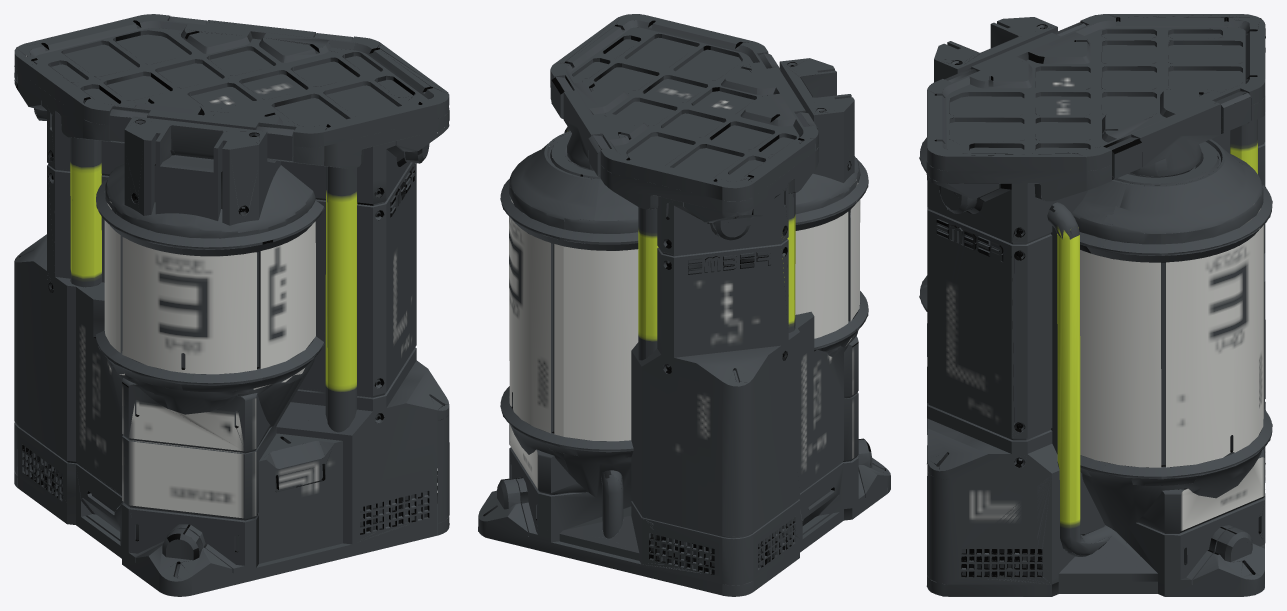
Rendered from building.glb.
3 views of the same model, side by side, from view 1: azimuth 30°, elevation 25°; view 2: azimuth 150°, elevation 25°; view 3: azimuth 270°, elevation 25° (orthographic). The views are drawn at different scales.
Visible parts, largest first — view 1: building-low.002; view 2: building-low.002; view 3: building-low.002.
Boxes of the visible parts, x1,y1,x2,y2 form: building-low.002: [14, 14, 449, 596]; building-low.002: [478, 14, 890, 596]; building-low.002: [919, 14, 1272, 596].
Bounding box in the file's own units: 78.41 × 108 × 78.39.
1 material, 1 textured.
